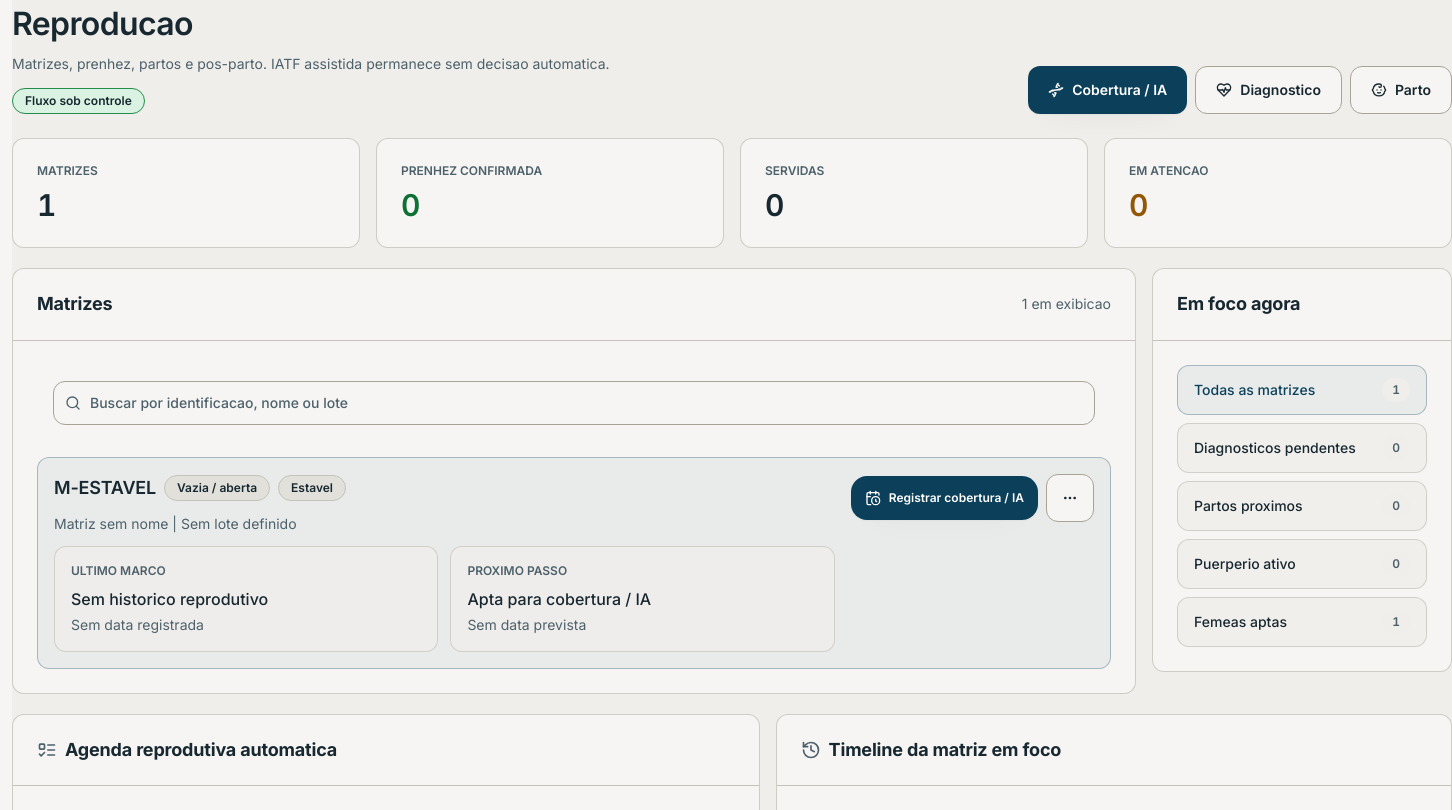
Test case: UX13 — apresentacao inicial das matrizes › distingue filtro vazio de ausencia de matrizes e permite ver todas
This screenshot has width=1452, height=810.
What coordinates should you click on to do the following:
click the button "Diagnosticos pendentes 0"
I would click on:
 (1302, 448)
Its box is x1=1177 y1=422 x2=1427 y2=472.
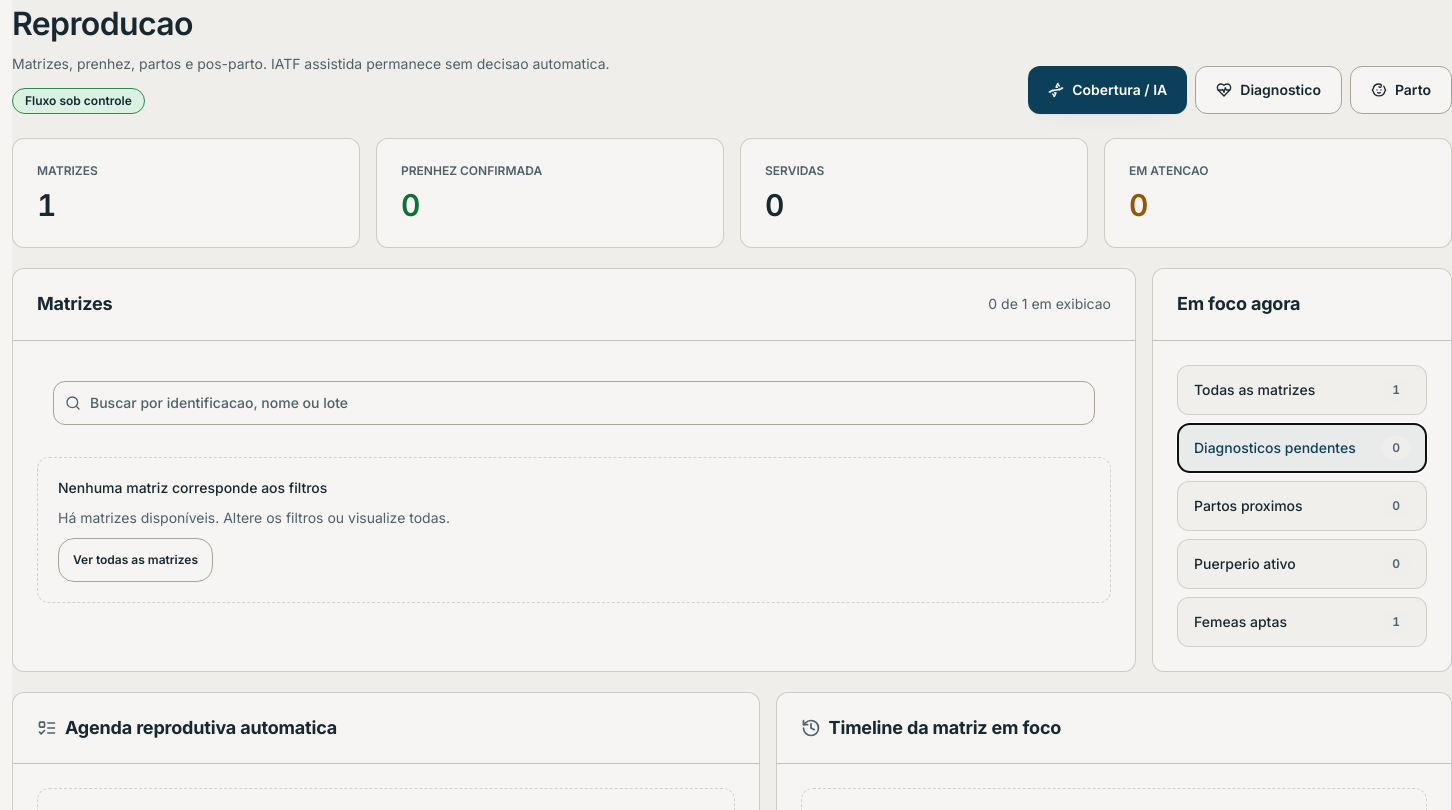
Check: the text "Nenhuma matriz corresponde aos filtros" is shown, box x1=58 y1=478 x2=327 y2=496
What coordinates should you click on to do the following:
click the button "Ver todas as matrizes"
I would click on:
 (136, 560)
Its box is x1=58 y1=538 x2=213 y2=582.
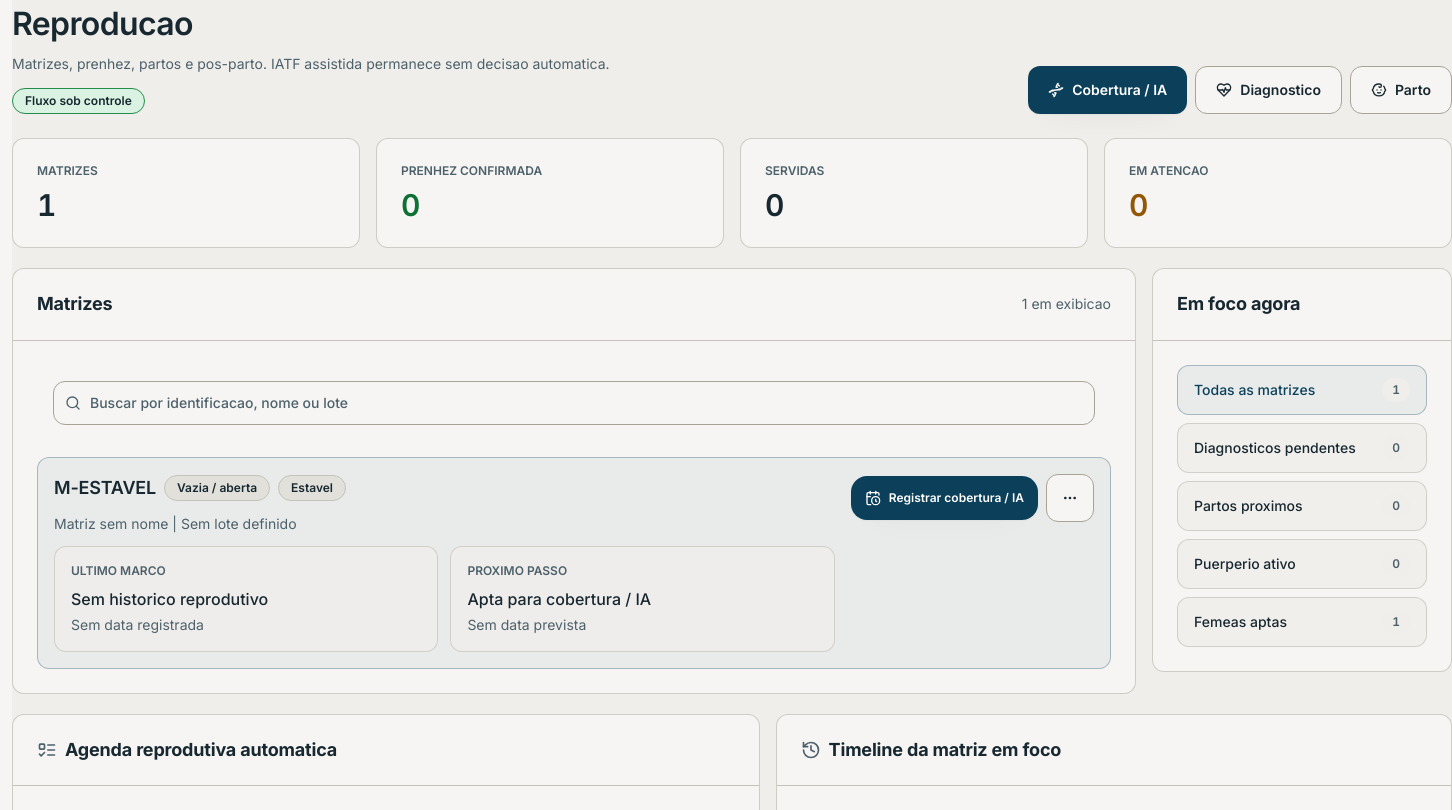
Check: the button "M-ESTAVEL " is shown, box x1=37 y1=456 x2=1111 y2=668
